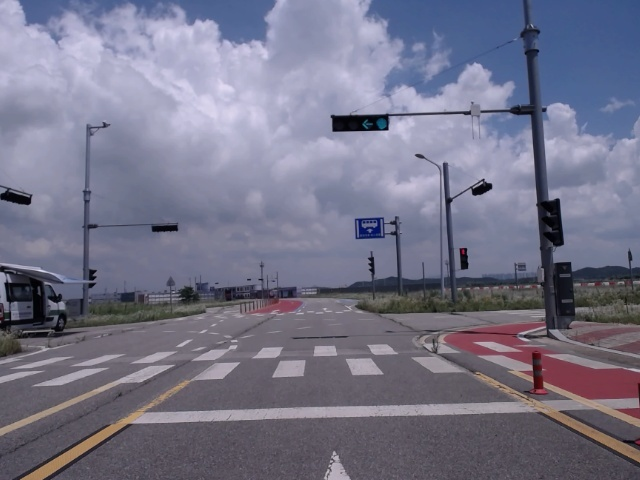all_green_4: (333, 114, 388, 132)
